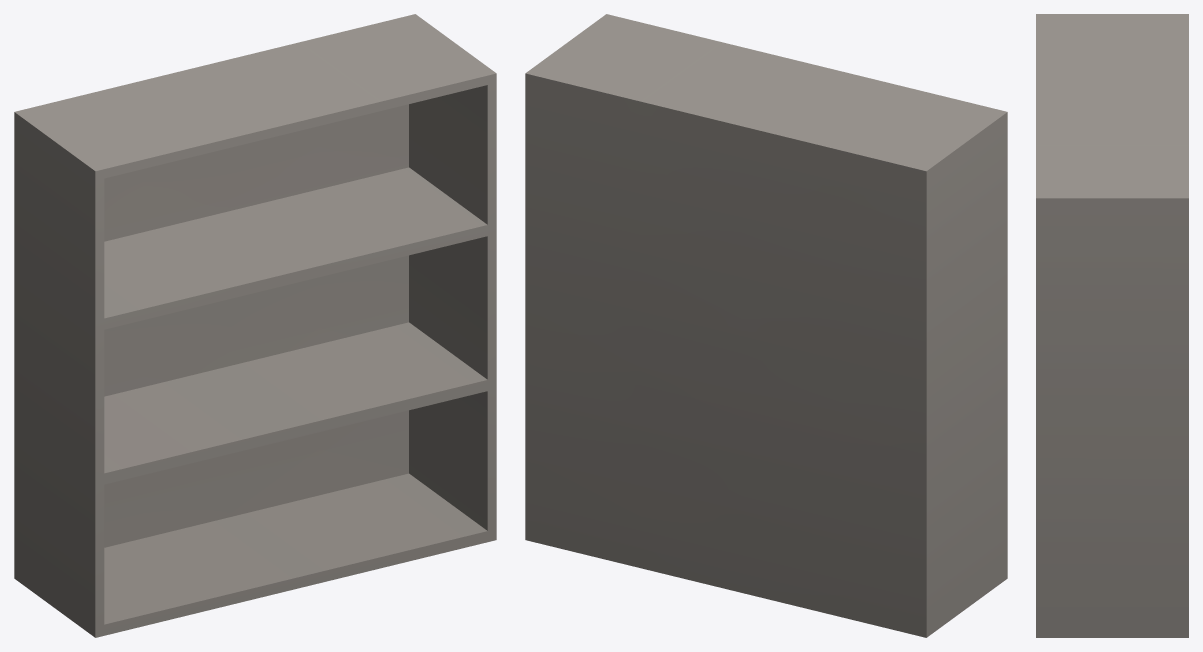
File: Shelving_3Tier_Grey.fbx
The picture shows the model from 3 angles, left to right: view 1: azimuth 30°, elevation 25°; view 2: azimuth 150°, elevation 25°; view 3: azimuth 270°, elevation 25°; orthographic projection. The views are drawn at different scales.
Parts seen in each view (by area): view 1: Shelving_3Tier_Grey; view 2: Shelving_3Tier_Grey; view 3: Shelving_3Tier_Grey.
Part boxes in pixels (x1=…): Shelving_3Tier_Grey: x1=14, y1=14, x2=496, y2=637; Shelving_3Tier_Grey: x1=525, y1=14, x2=1007, y2=637; Shelving_3Tier_Grey: x1=1036, y1=14, x2=1188, y2=637.
Bounding box in the file's own units: 103 × 114 × 36.08.
